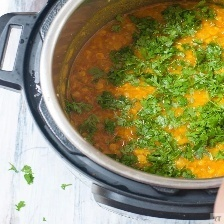dal: (62, 0, 224, 182)
